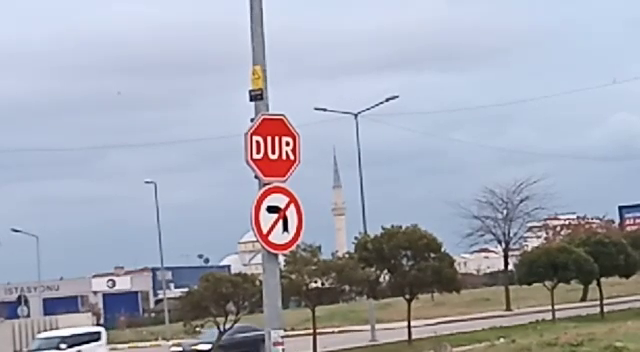no_left: (247, 183, 308, 258)
stop: (240, 111, 304, 186)
